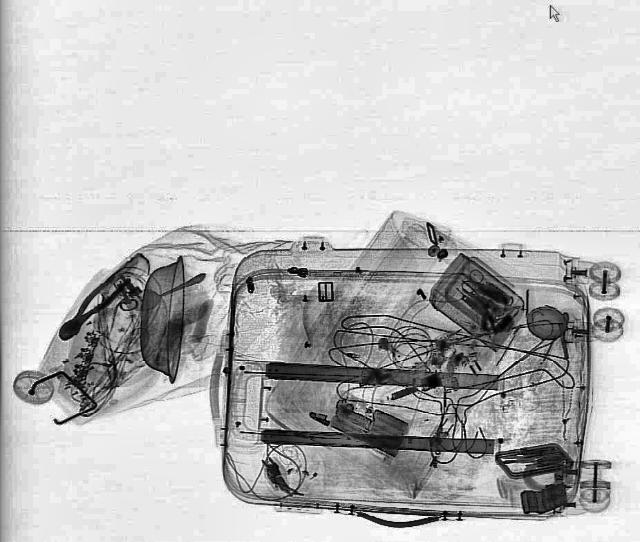Pliers: (49, 267, 134, 343)
Scissors: (456, 267, 508, 305)
